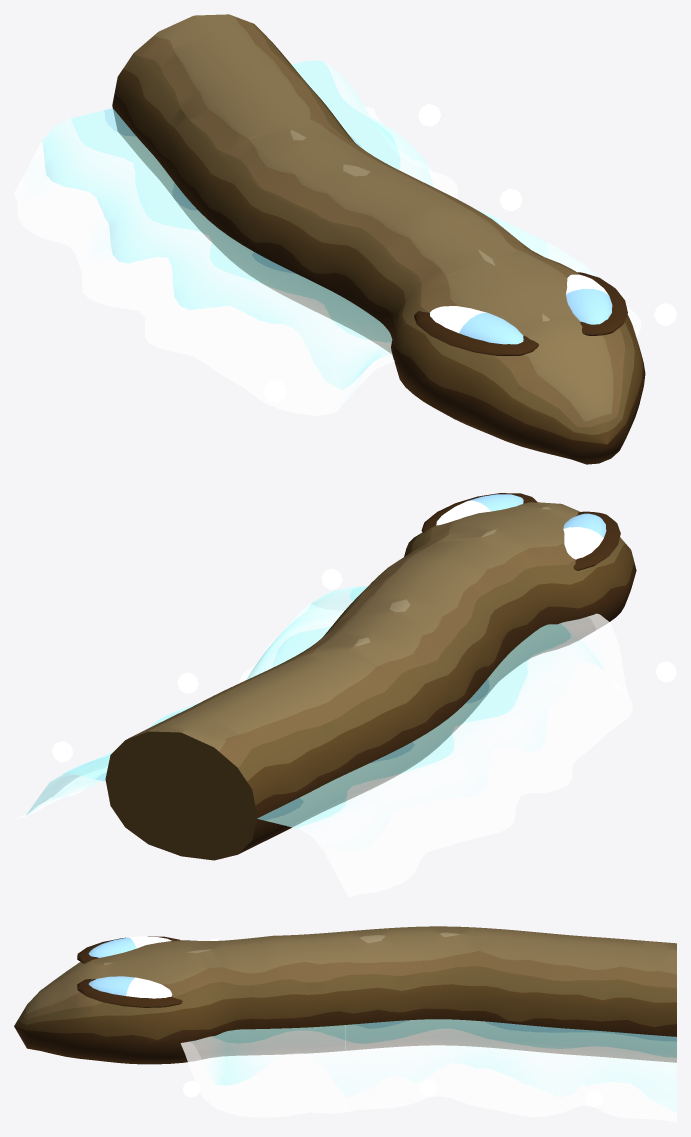
File: coral_eel_43.glb
3 renders of one model, top to bottom at view 1: azimuth 30°, elevation 25°; view 2: azimuth 150°, elevation 25°; view 3: azimuth 270°, elevation 25°, orthographic. The views are drawn at different scales.
Parts seen in each view (by area): view 1: coral_eel_43; view 2: coral_eel_43; view 3: coral_eel_43.
Boxes of the visible parts, x1,y1,x2,y2 form: coral_eel_43: (14,14,676,464); coral_eel_43: (15,493,676,897); coral_eel_43: (14,926,676,1122).
Size of the model in its own units: 15.72 by 4.87 by 28.
